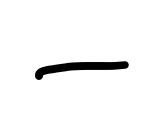minus: (35, 62, 129, 79)
